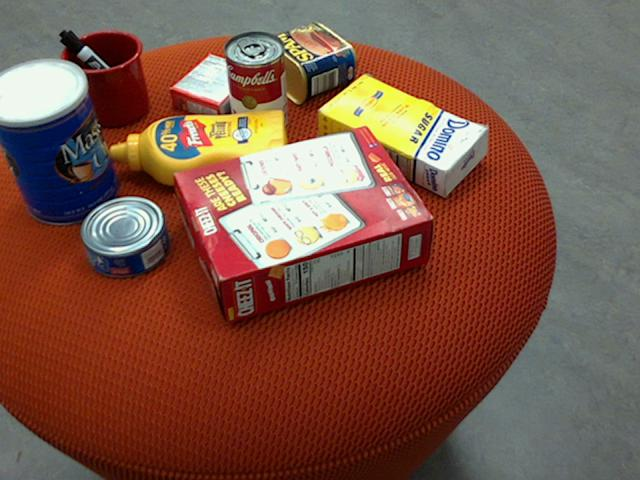cracker_box: (173, 125, 434, 322)
gelatin_box: (169, 52, 260, 121)
large_marker: (59, 29, 145, 111)
master_chef_can: (0, 57, 119, 225)
mug: (47, 30, 149, 126)
mustard_bottle: (110, 109, 288, 185)
potted_meat_can: (257, 22, 357, 105)
sugar_box: (317, 74, 490, 195)
tomato_soup_can: (224, 29, 287, 136)
tuna_fish_can: (80, 196, 170, 278)
